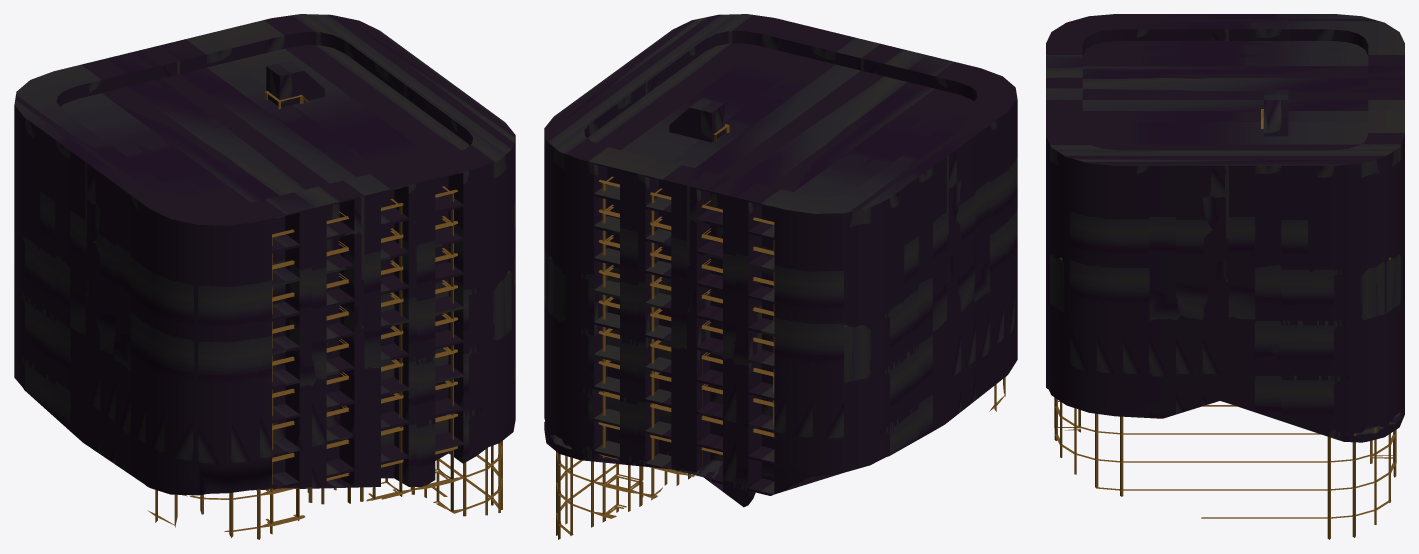
File: building6.fbx
3 renders of one model, left to right at view 1: azimuth 30°, elevation 25°; view 2: azimuth 150°, elevation 25°; view 3: azimuth 270°, elevation 25°, orthographic. The views are drawn at different scales.
Parts seen in each view (by area): view 1: Cube.023; view 2: Cube.023; view 3: Cube.023.
Part boxes in pixels (<box>): Cube.023: <box>14,14,515,539</box>; Cube.023: <box>544,14,1017,539</box>; Cube.023: <box>1046,14,1404,539</box>.
Bounding box in the file's own units: 2986 × 3620 × 2986.
